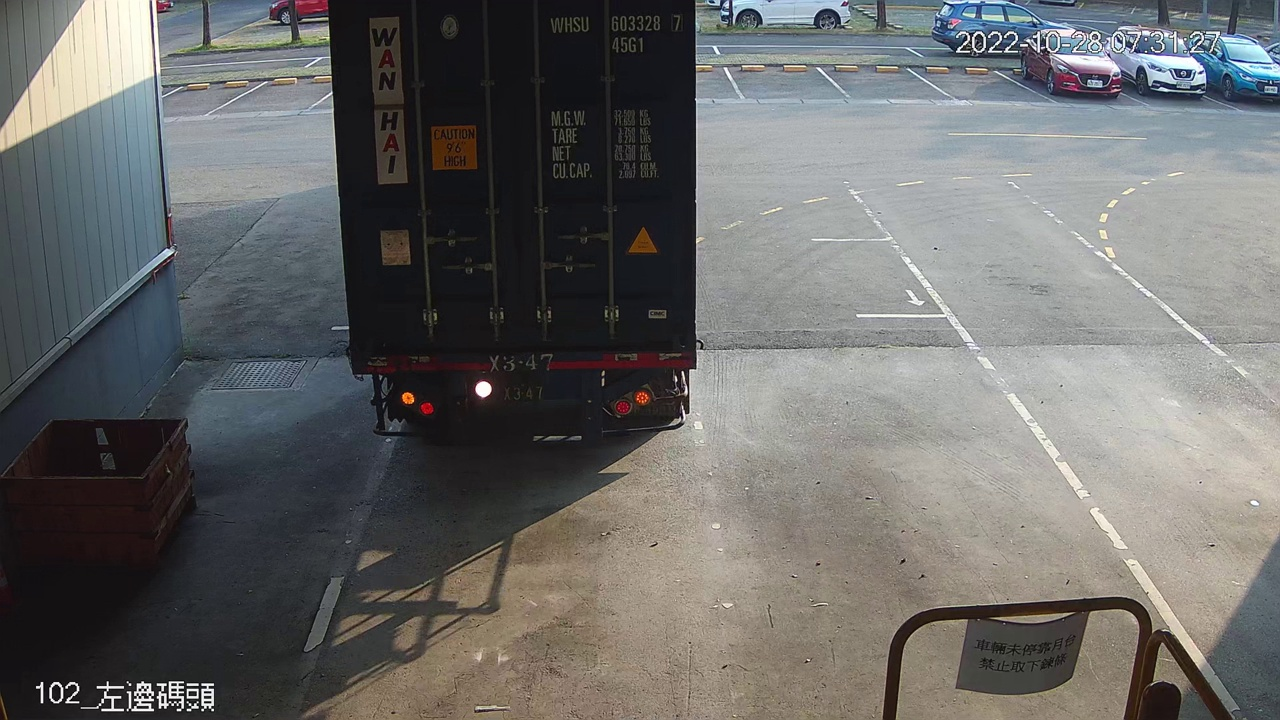container: (546, 8, 689, 61)
